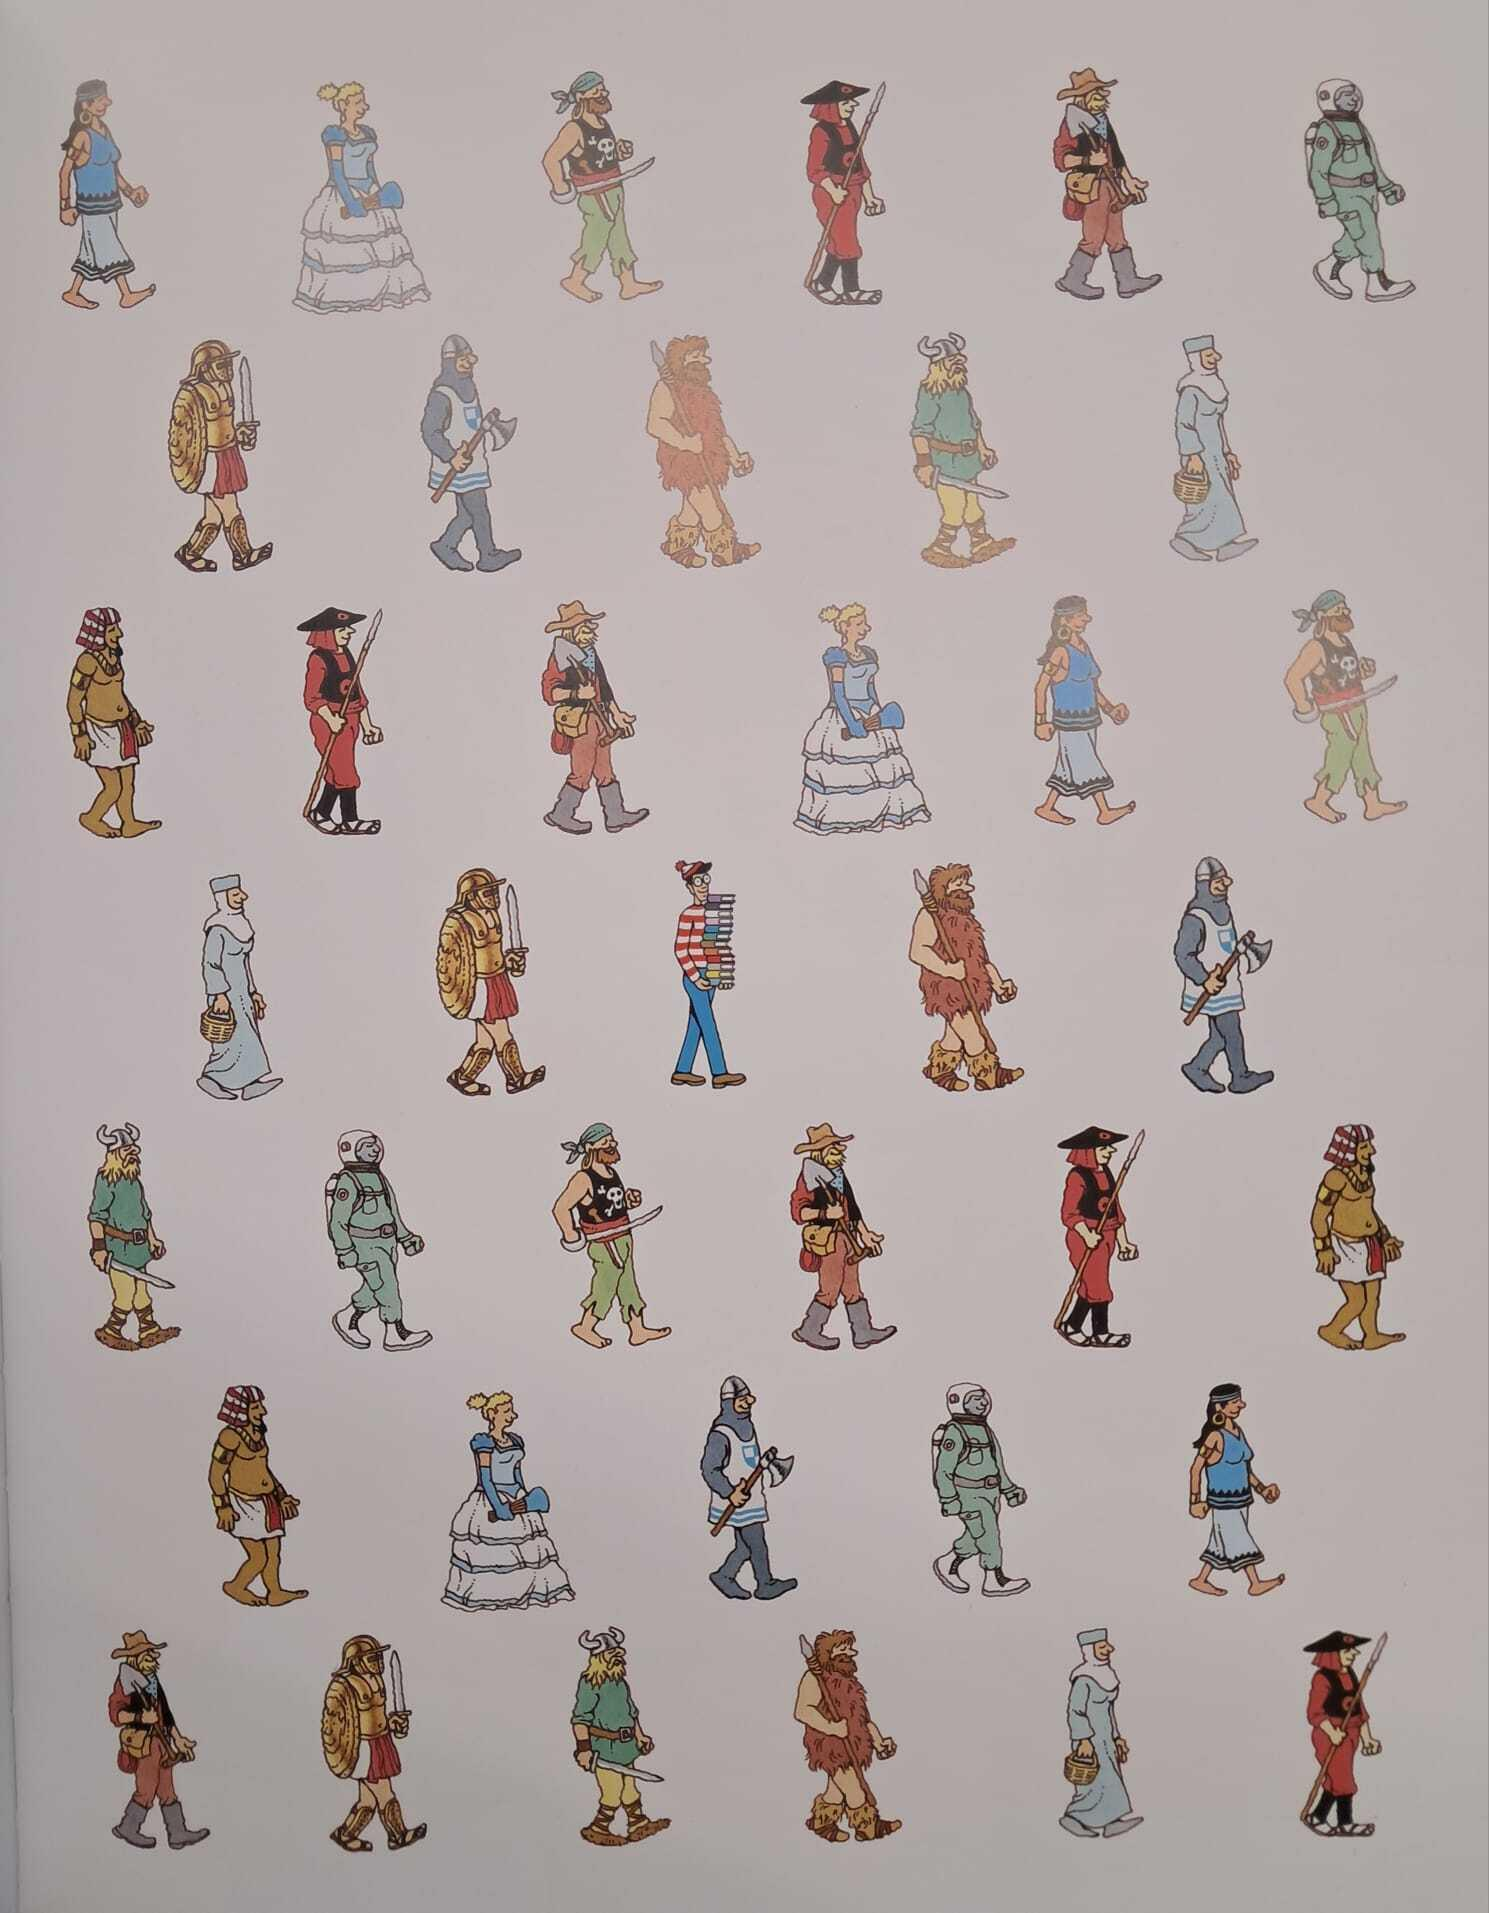waldos: (668, 859, 747, 1088)
